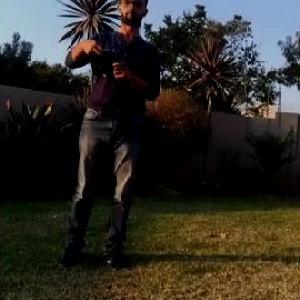follow: (54, 0, 164, 280)
